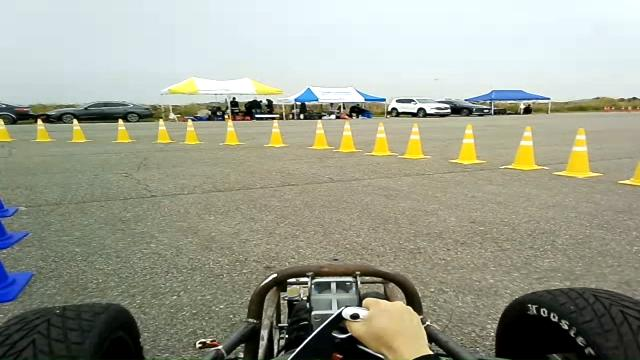yellow cone: (552, 127, 603, 178), (498, 126, 548, 170), (448, 124, 486, 164), (397, 122, 431, 159), (365, 122, 398, 156), (333, 120, 362, 152), (307, 119, 333, 149), (263, 120, 289, 148), (218, 118, 244, 145), (111, 118, 136, 143), (30, 118, 56, 142), (152, 118, 176, 143), (67, 118, 92, 142), (180, 119, 203, 144), (0, 118, 16, 141)
